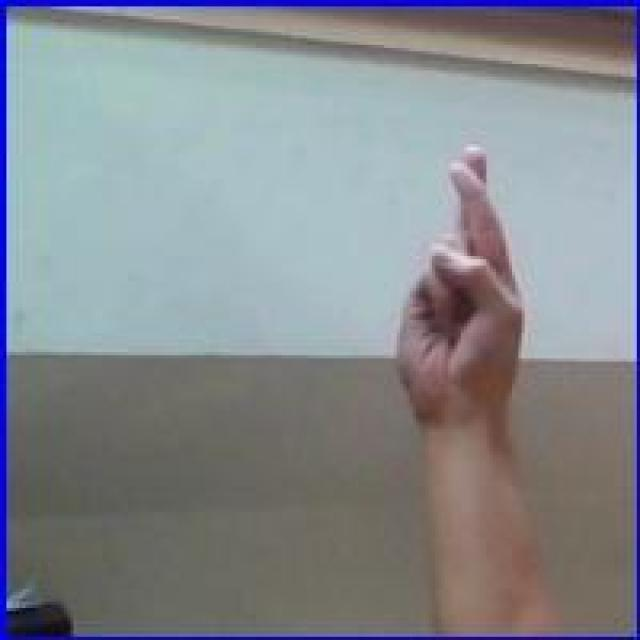R: (394, 136, 534, 437)
